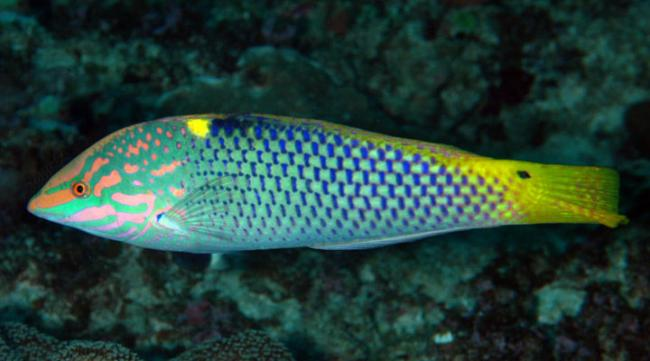fish: (28, 112, 627, 254)
